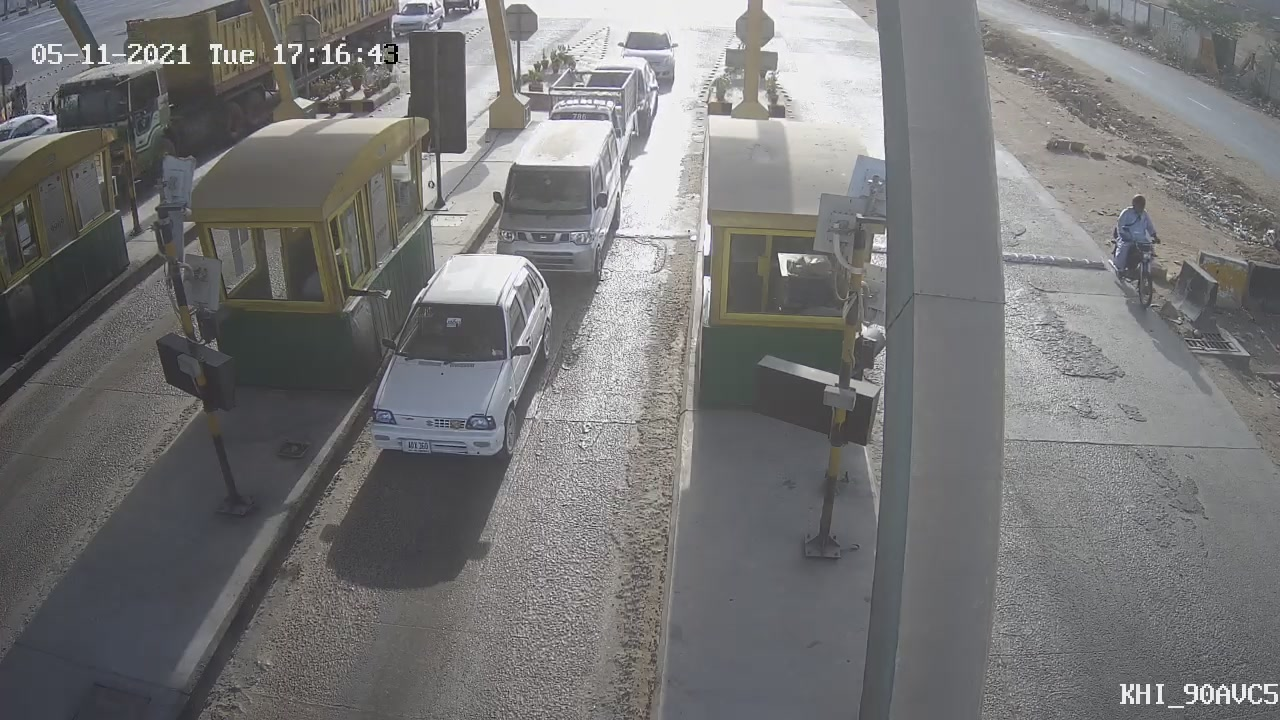F1: (339, 238, 576, 491), (466, 103, 638, 300)
